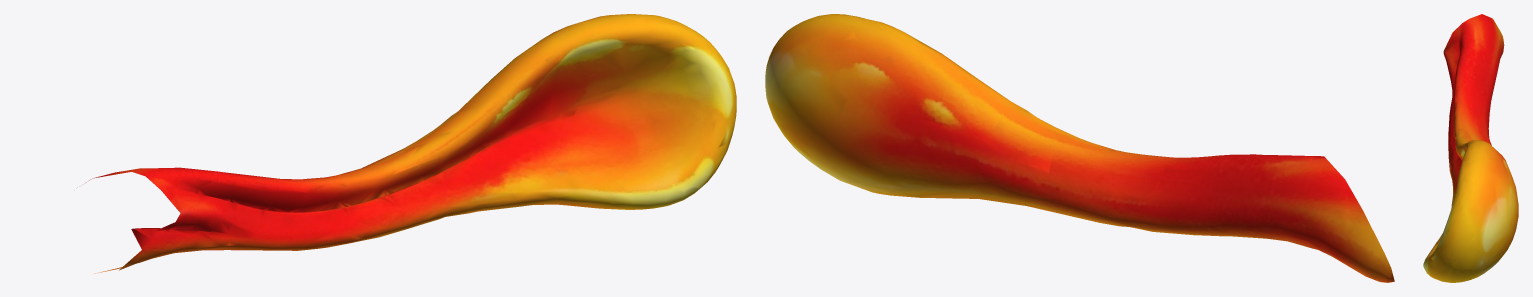
Rendered from bolab_lengua.glb.
3 renders of one model, left to right at view 1: azimuth 30°, elevation 25°; view 2: azimuth 150°, elevation 25°; view 3: azimuth 270°, elevation 25°, orthographic. The views are drawn at different scales.
Parts seen in each view (by area): view 1: geometry_0; view 2: geometry_0; view 3: geometry_0.
Part boxes in pixels (x1,y1,x2,y2): geometry_0: (86,14,736,273); geometry_0: (765,14,1394,282); geometry_0: (1423,14,1518,282).
Size of the model in its own units: 0.994 by 0.2465 by 0.181.
1 material, 1 textured.
